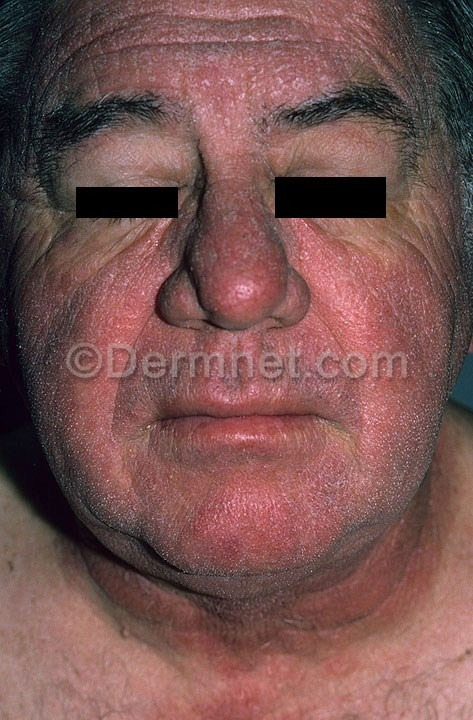Melasma: (27, 379, 439, 558), (77, 0, 358, 90), (268, 221, 453, 347), (12, 227, 184, 340), (197, 85, 273, 327)
